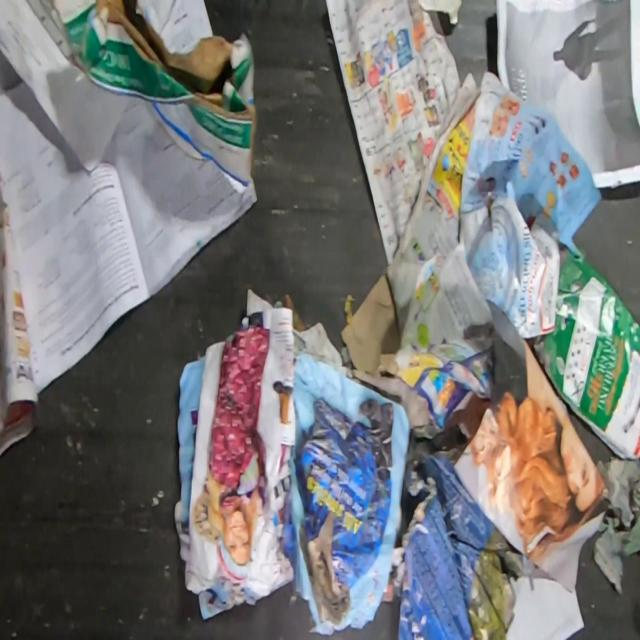cardboard: (63, 0, 258, 202), (389, 443, 558, 640), (533, 237, 640, 459), (338, 276, 402, 377)
